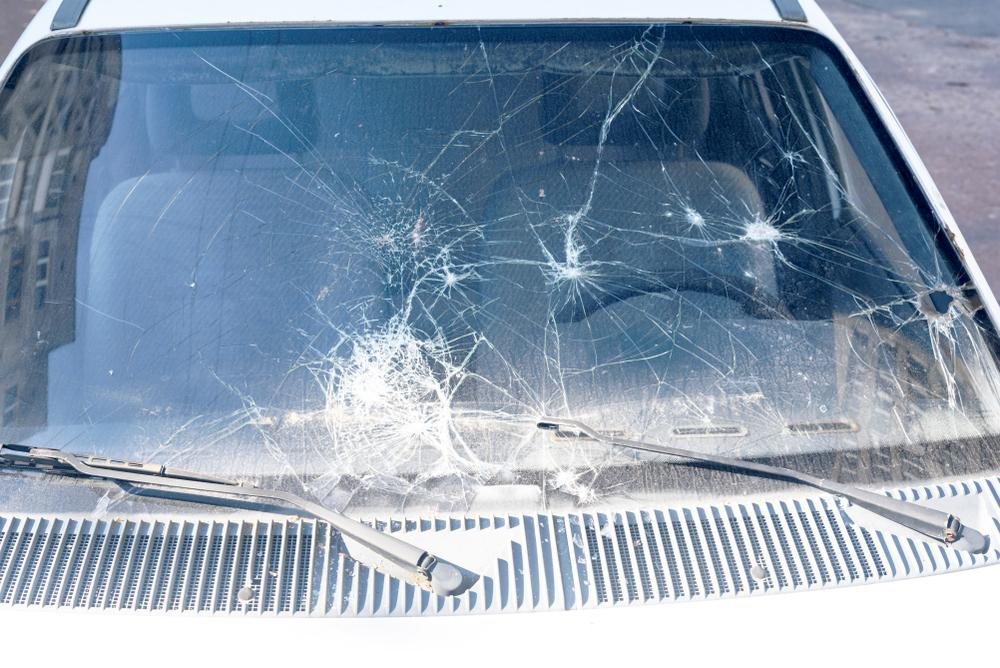glass shatter: (0, 27, 1000, 514)
